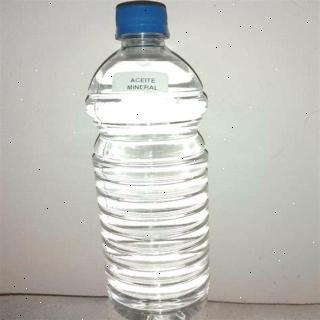Plastic-bottle: (78, 3, 224, 320)
